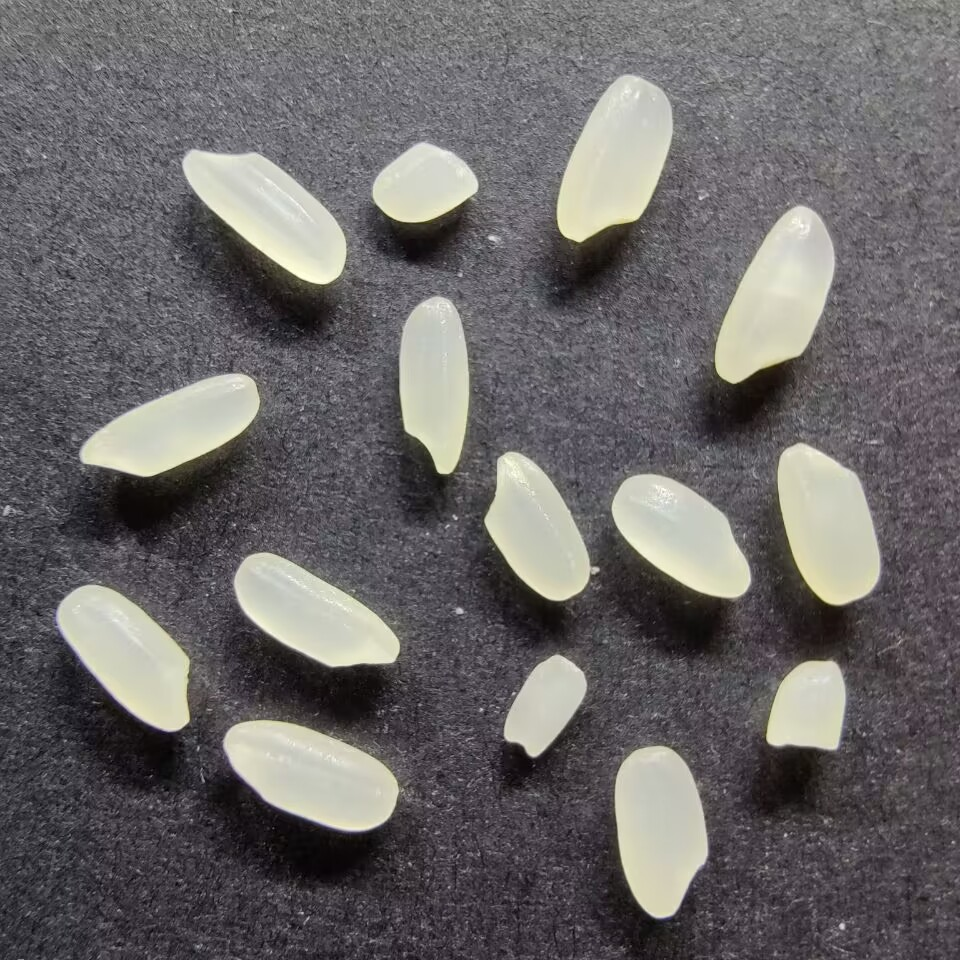broken: (501, 653, 587, 760), (370, 141, 480, 224), (764, 658, 848, 750)
rice: (181, 149, 348, 284), (713, 205, 837, 385), (53, 583, 195, 734), (222, 717, 398, 833), (231, 550, 401, 669), (556, 73, 675, 242), (77, 370, 261, 477), (611, 472, 751, 600), (776, 441, 880, 606), (612, 744, 709, 919), (482, 449, 591, 602), (396, 291, 469, 475)
